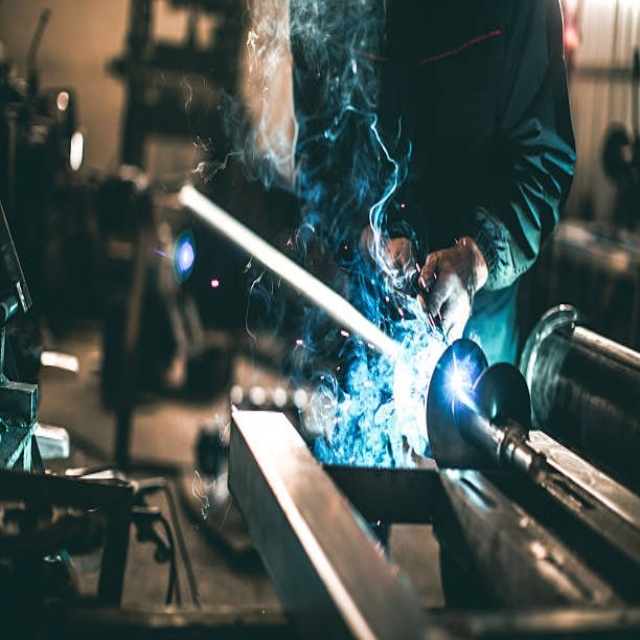Sin_guantes: (418, 232, 488, 348)
